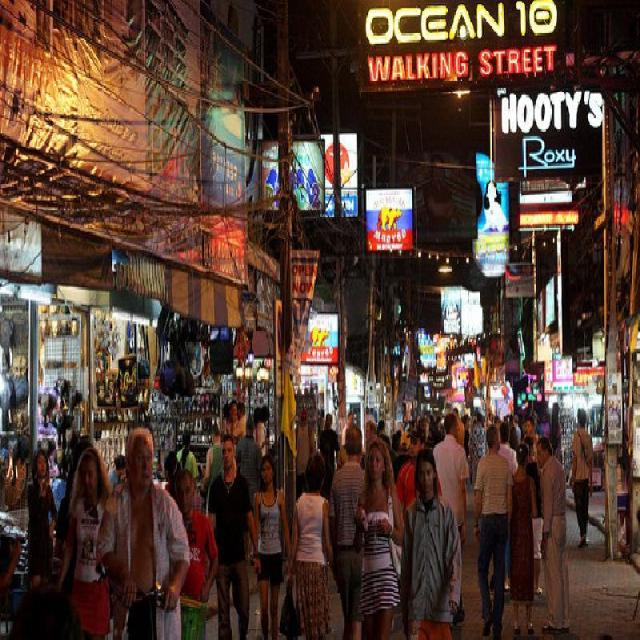body: (95, 423, 191, 639), (53, 444, 119, 638), (398, 444, 464, 638), (204, 432, 262, 638), (351, 435, 406, 639), (471, 422, 513, 638), (327, 421, 367, 640), (290, 452, 334, 640), (172, 465, 219, 640), (432, 412, 470, 628), (249, 452, 293, 638), (535, 434, 573, 637), (506, 441, 539, 640), (25, 446, 60, 632), (394, 429, 444, 545), (233, 416, 264, 566), (0, 585, 82, 640), (519, 434, 544, 597), (568, 406, 594, 550), (498, 422, 520, 592), (422, 153, 455, 243), (202, 420, 225, 530), (318, 412, 339, 504), (295, 406, 315, 502), (252, 404, 271, 497), (175, 428, 200, 494), (480, 177, 508, 235), (471, 412, 488, 492), (616, 445, 630, 537), (0, 534, 22, 585), (414, 412, 445, 448), (54, 498, 70, 562), (510, 420, 560, 440), (64, 435, 78, 500), (110, 589, 128, 639), (224, 398, 246, 437), (389, 420, 402, 482), (363, 417, 390, 445), (108, 452, 126, 492), (162, 450, 180, 490), (456, 406, 473, 446), (502, 412, 532, 423), (340, 409, 346, 446), (532, 409, 549, 422), (78, 440, 94, 453), (487, 411, 501, 424), (344, 412, 354, 427), (481, 409, 488, 427), (253, 405, 256, 441), (524, 398, 530, 414), (463, 445, 469, 459), (256, 407, 261, 420), (452, 407, 457, 418), (472, 413, 476, 423)
